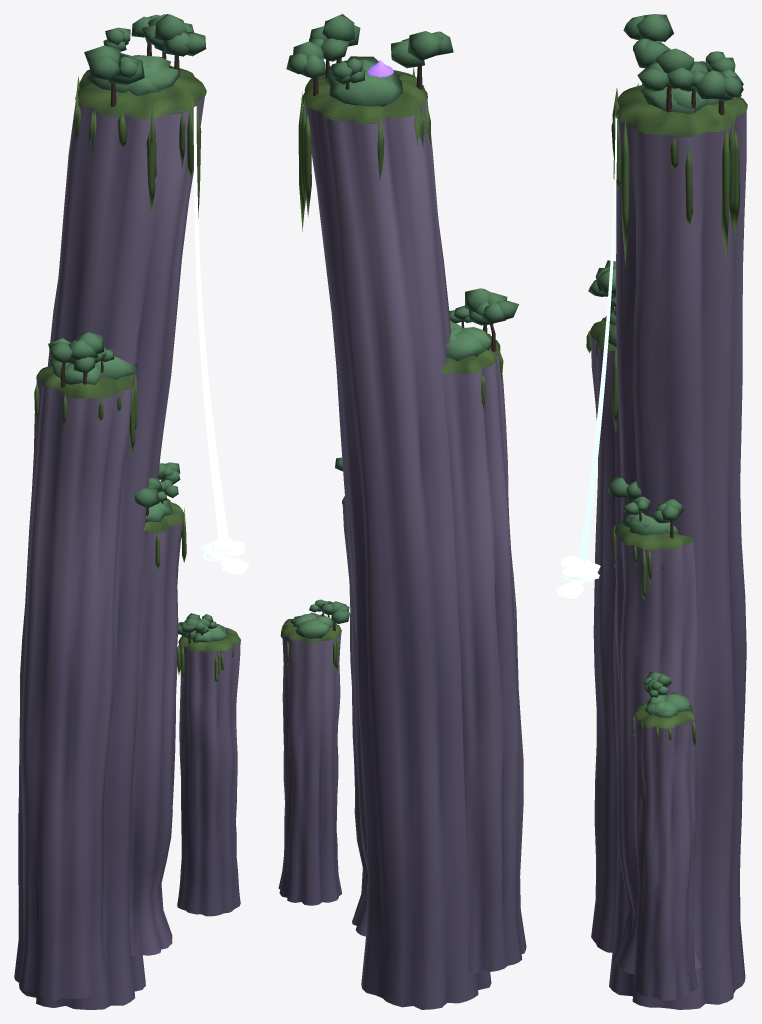
Rendered from needle.glb.
3 renders of one model, left to right at view 1: azimuth 30°, elevation 25°; view 2: azimuth 150°, elevation 25°; view 3: azimuth 270°, elevation 25°, orthographic. The views are drawn at different scales.
Parts seen in each view (by area): view 1: hero_valley_rock, hero_valley_leaf, hero_valley_moss, valley_falls, valley_spray, hero_valley_bark; view 2: hero_valley_rock, hero_valley_leaf, hero_valley_moss, hero_valley_bark; view 3: hero_valley_rock, hero_valley_moss, hero_valley_leaf, valley_falls, valley_spray.
Boxes of the visible parts, x1,y1,x2,y2 form: hero_valley_rock: (14, 84, 240, 1009); hero_valley_leaf: (48, 14, 227, 642); hero_valley_moss: (34, 65, 240, 683); valley_falls: (193, 106, 228, 541); valley_spray: (200, 537, 249, 575); hero_valley_bark: (60, 43, 202, 643); hero_valley_rock: (278, 84, 526, 1009); hero_valley_leaf: (286, 14, 518, 638); hero_valley_moss: (280, 66, 503, 672); hero_valley_bark: (313, 58, 496, 630); hero_valley_rock: (590, 97, 746, 1009); hero_valley_moss: (586, 83, 747, 747); hero_valley_leaf: (588, 14, 743, 717); valley_falls: (578, 117, 617, 564); valley_spray: (555, 555, 600, 598).
Size of the model in its own units: 74.79 by 297 by 52.96.
